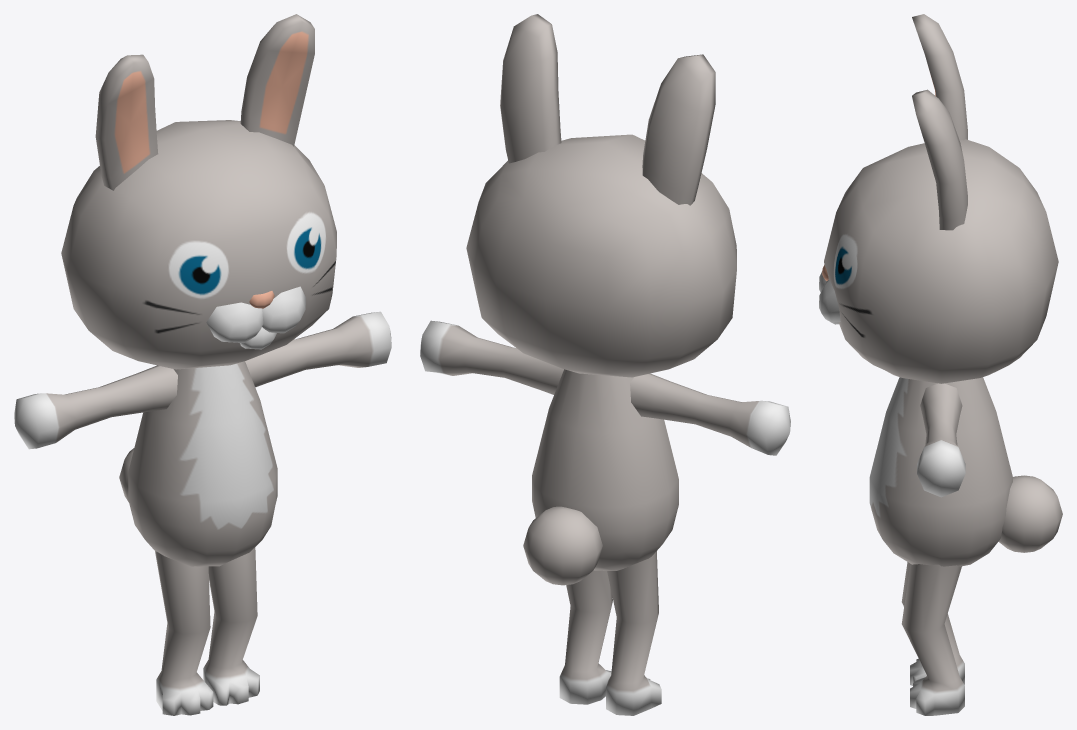
Rendered from Rabbit.glb.
3 views of the same model, side by side, from view 1: azimuth 30°, elevation 25°; view 2: azimuth 150°, elevation 25°; view 3: azimuth 270°, elevation 25° (orthographic). The views are drawn at different scales.
Visible parts, largest first — view 1: Rabbit; view 2: Rabbit; view 3: Rabbit.
Part boxes in pixels (left/top/right/bottom): Rabbit: left=14, top=14, right=391, bottom=715; Rabbit: left=420, top=14, right=790, bottom=715; Rabbit: left=819, top=14, right=1062, bottom=715.
Bounding box in the file's own units: 1.6 × 2.74 × 0.9418.
Materials: 1 (1 with a texture image).
